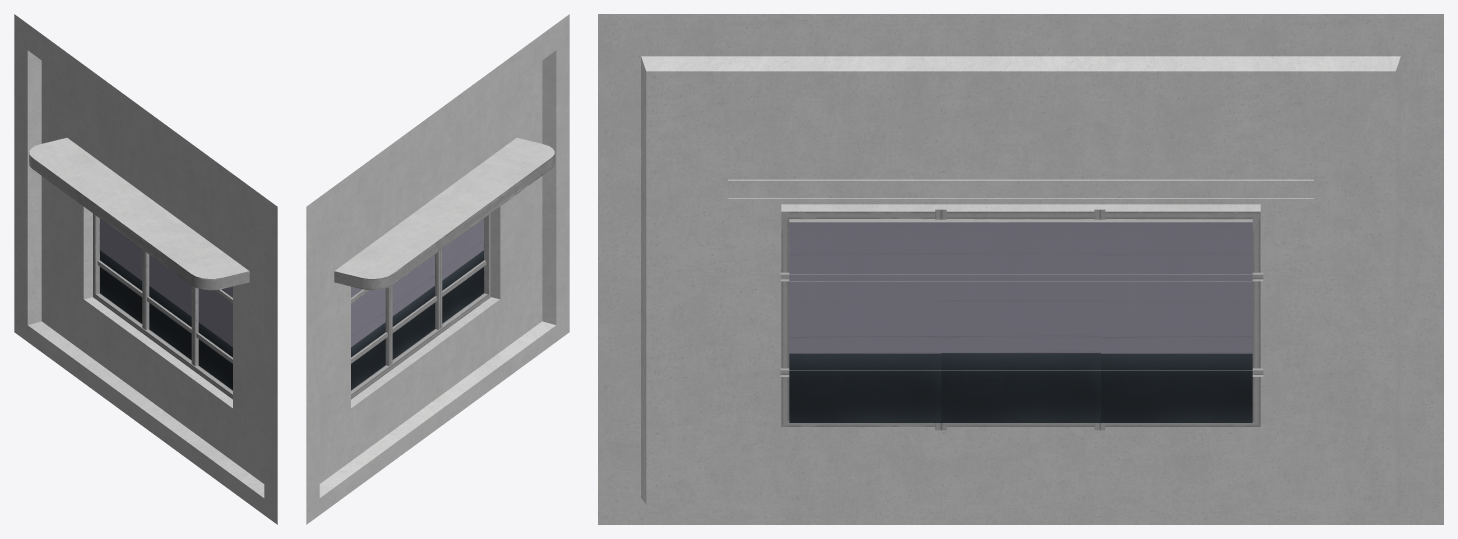
File: MB_Wall_Window_A_11.fbx
3 views of the same model, side by side, from view 1: azimuth 30°, elevation 25°; view 2: azimuth 150°, elevation 25°; view 3: azimuth 270°, elevation 25° (orthographic). The views are drawn at different scales.
Parts seen in each view (by area): view 1: MB_Wall_Window_A_11; view 2: MB_Wall_Window_A_11; view 3: MB_Wall_Window_A_11.
Boxes of the visible parts, bbox=[...] form: MB_Wall_Window_A_11: bbox=[14, 14, 277, 524]; MB_Wall_Window_A_11: bbox=[306, 14, 569, 524]; MB_Wall_Window_A_11: bbox=[598, 14, 1443, 524].
Bounding box in the file's own units: 79.91 × 400 × 600.
